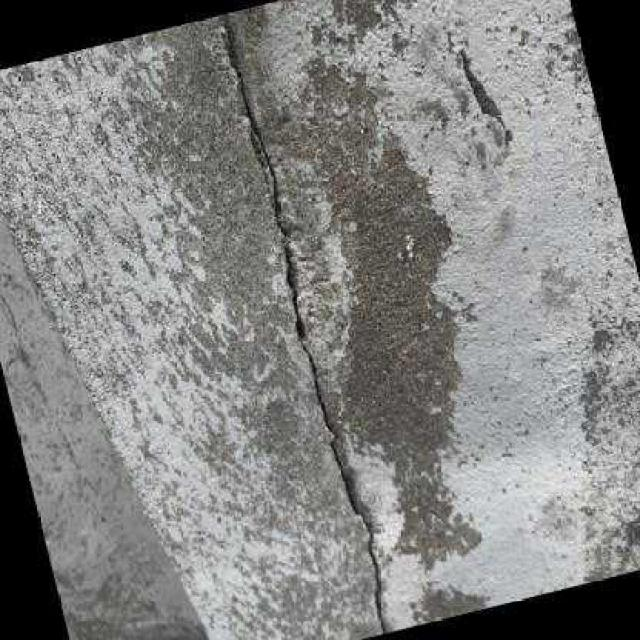D00: (227, 36, 386, 634)
